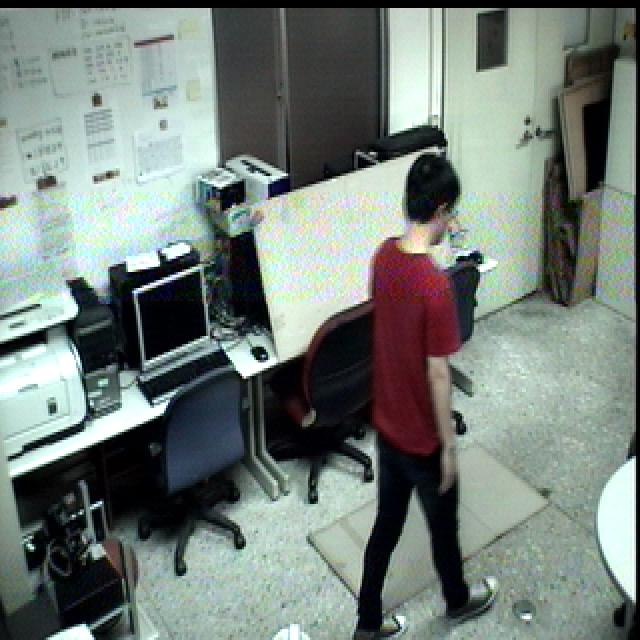stand: (356, 145, 502, 640)
